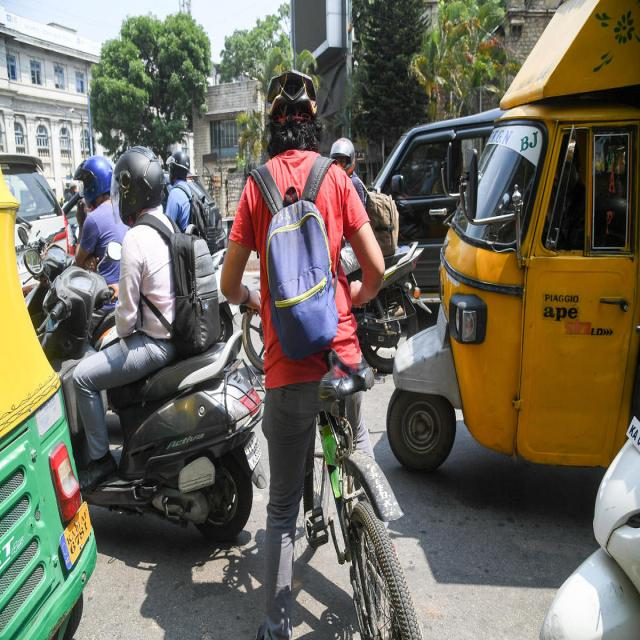autorickshaw: (388, 0, 640, 471), (0, 176, 96, 638)
bicycle: (221, 69, 419, 639)
car: (372, 109, 501, 292)
motorcycle: (41, 148, 265, 541), (330, 139, 429, 373)
